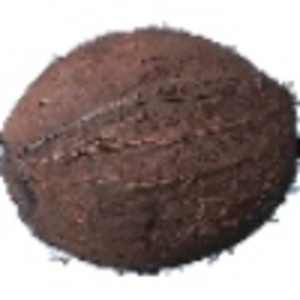coco: (1, 27, 300, 276)
